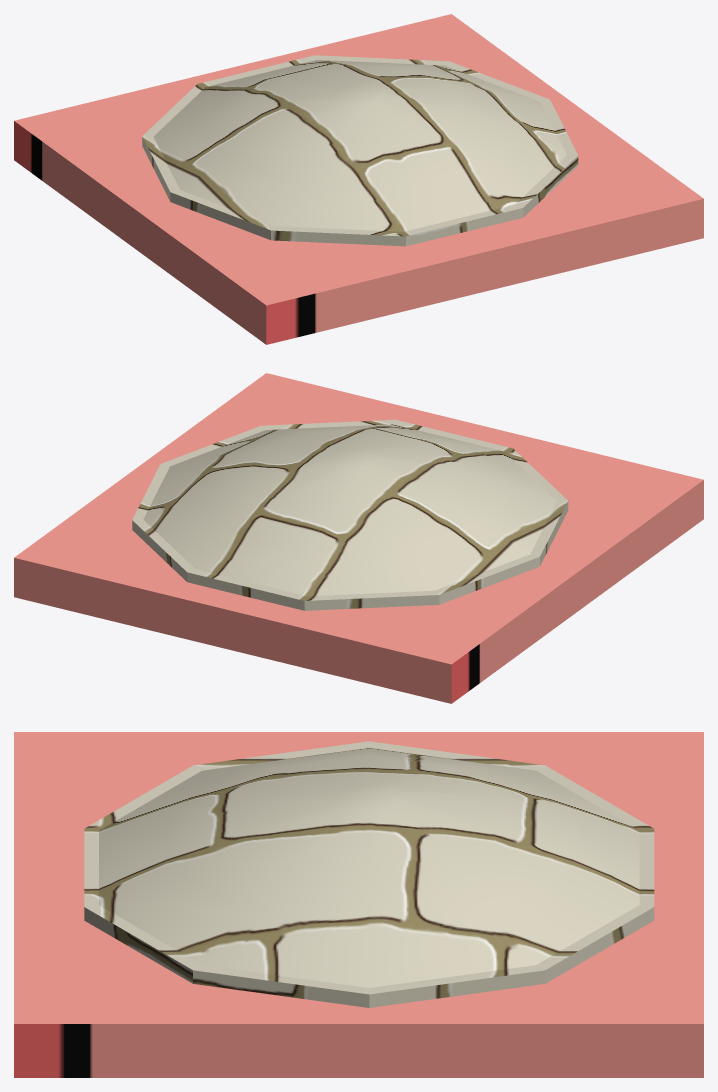
File: Turtle_Pad.fbx
The picture shows the model from 3 angles, top to bottom: view 1: azimuth 30°, elevation 25°; view 2: azimuth 150°, elevation 25°; view 3: azimuth 270°, elevation 25°; orthographic projection. The views are drawn at different scales.
Parts seen in each view (by area): view 1: pCylinder18; view 2: pCylinder18; view 3: pCylinder18.
Part boxes in pixels (x1,y1,x2,y2): pCylinder18: [14, 14, 703, 344]; pCylinder18: [14, 373, 703, 703]; pCylinder18: [14, 732, 703, 1077].
Bounding box in the file's own units: 0.9899 × 0.2158 × 0.989.
